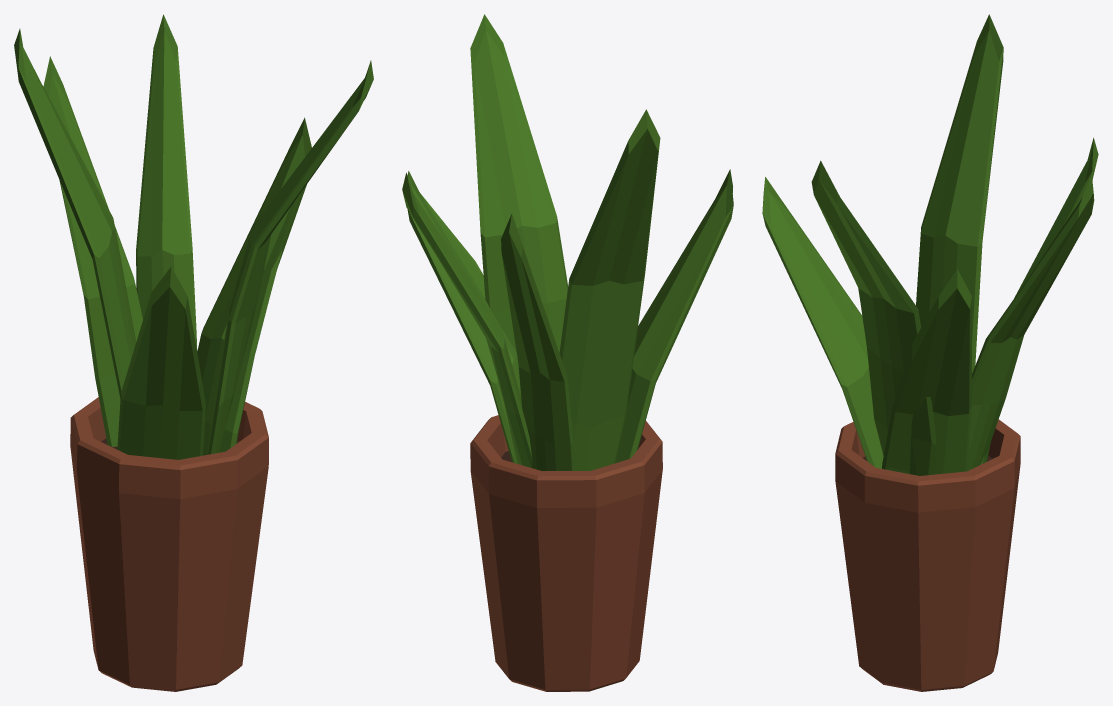
The model's file is tanaman hias 1.fbx.
3 views of the same model, side by side, from view 1: azimuth 30°, elevation 25°; view 2: azimuth 150°, elevation 25°; view 3: azimuth 270°, elevation 25° (orthographic). The views are drawn at different scales.
Visible parts, largest first — view 1: flowerpot.002; view 2: flowerpot.002; view 3: flowerpot.002.
Boxes of the visible parts, x1,y1,x2,y2 form: flowerpot.002: (14, 14, 373, 691); flowerpot.002: (402, 14, 733, 691); flowerpot.002: (762, 14, 1098, 691).
Bounding box in the file's own units: 279 × 609 × 311.
